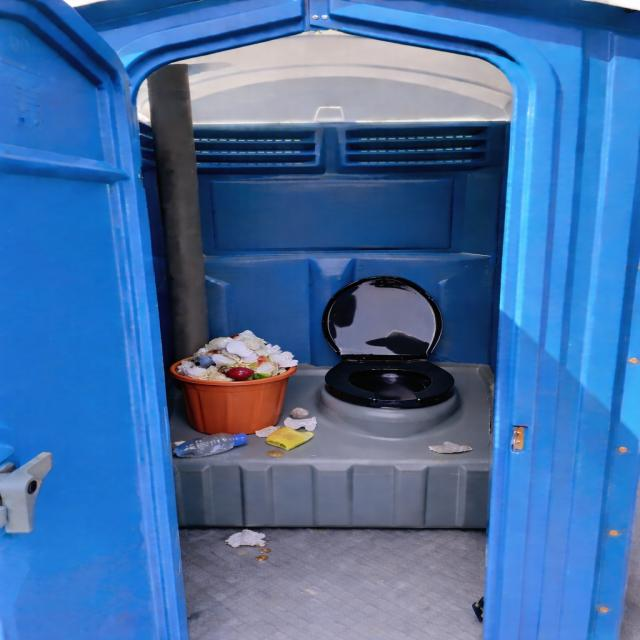garbage: (201, 519, 289, 570), (419, 432, 476, 464)
overflow_bin: (159, 324, 323, 464)
